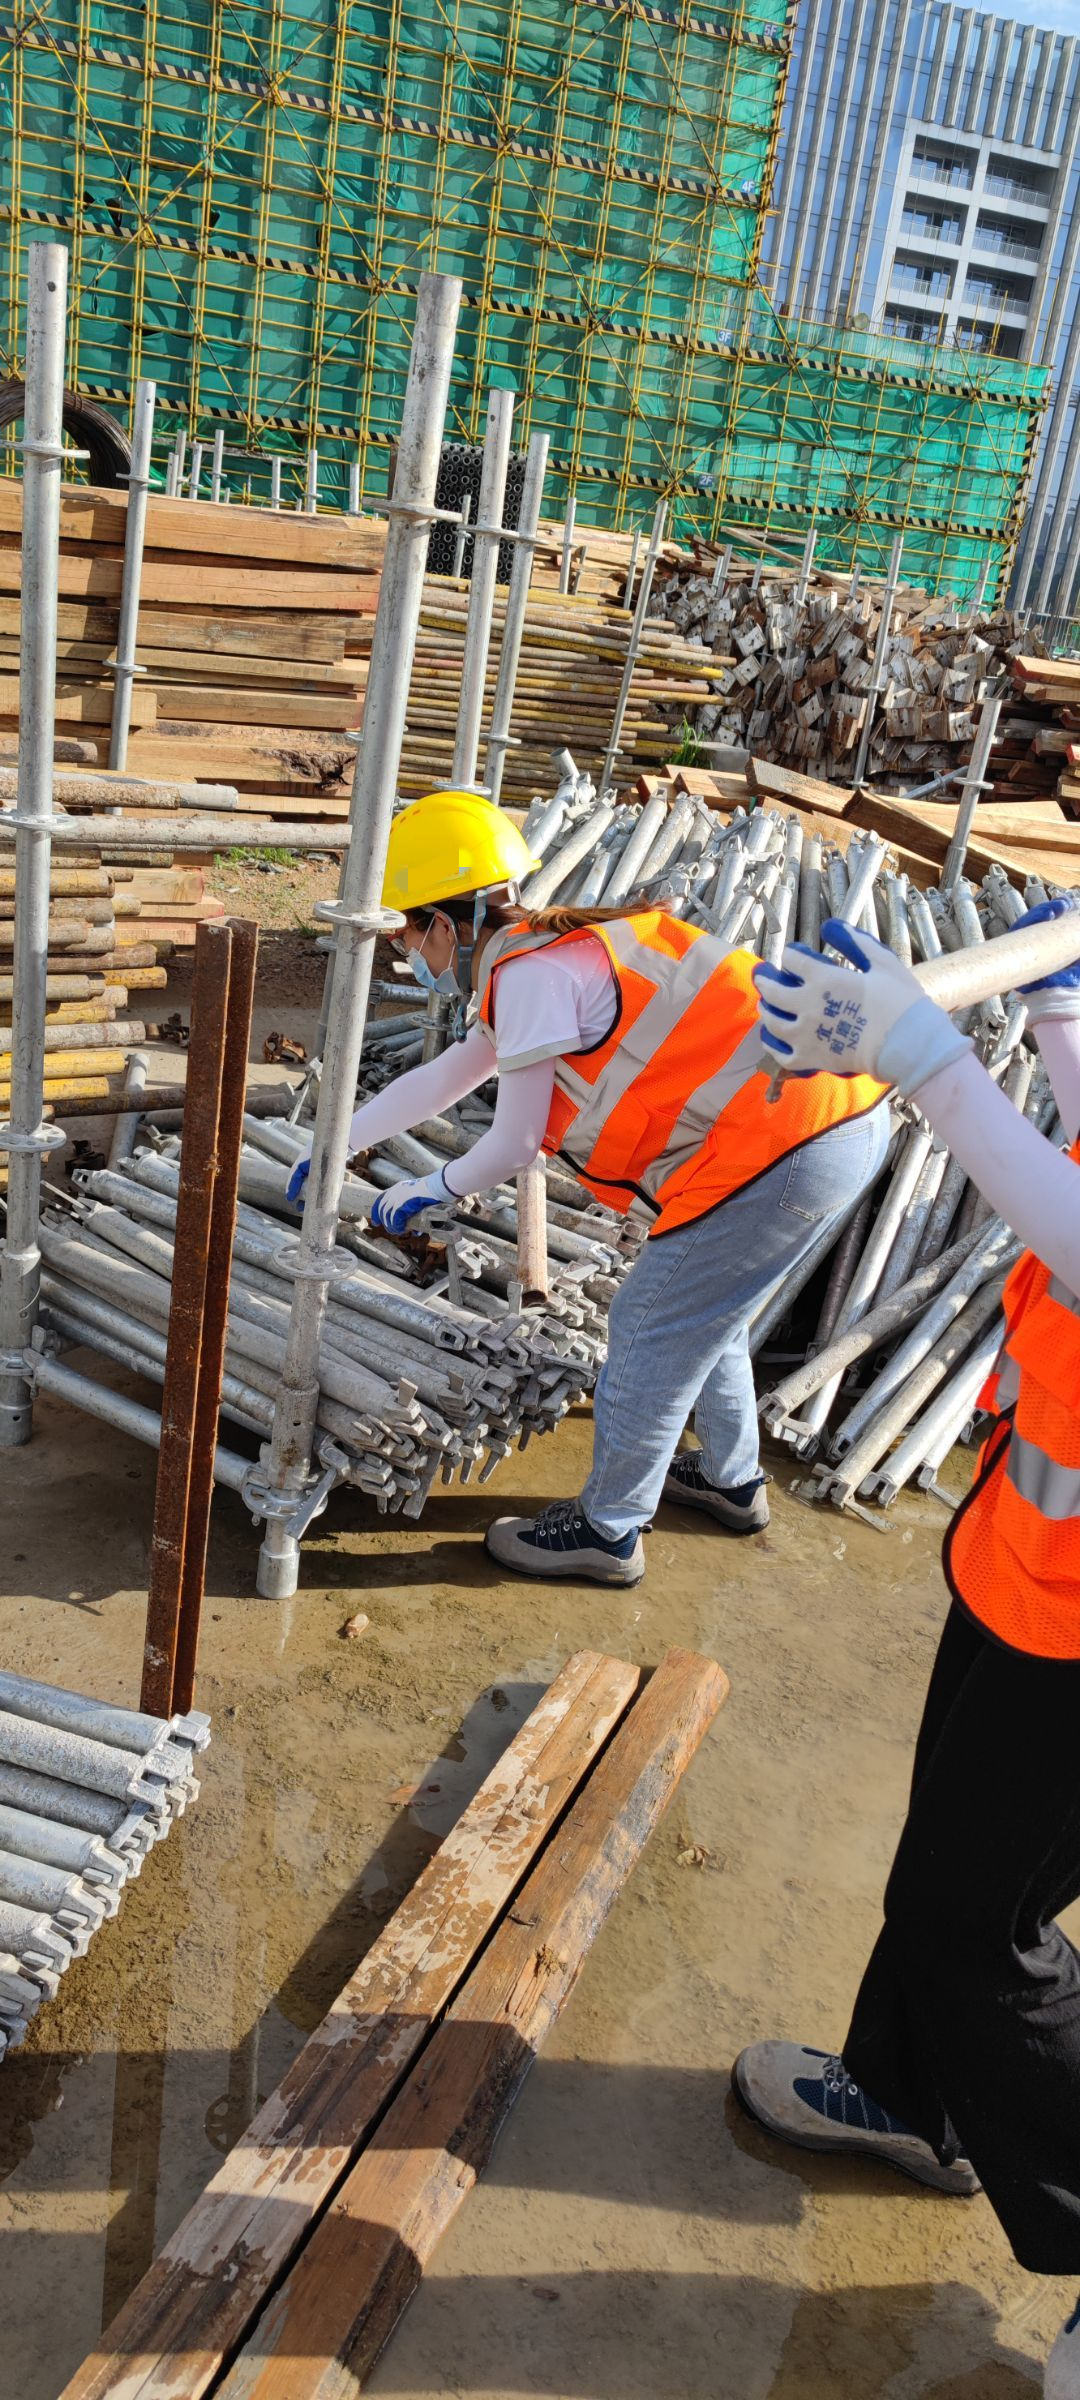helmet: (382, 789, 531, 917)
person: (746, 802, 1080, 2290), (374, 761, 898, 1615)
scaffold: (1, 1066, 662, 1575), (1, 1620, 303, 2071)
vest: (498, 928, 874, 1222), (951, 1167, 1080, 1630)
wood: (1, 502, 413, 1129), (400, 530, 723, 779)
